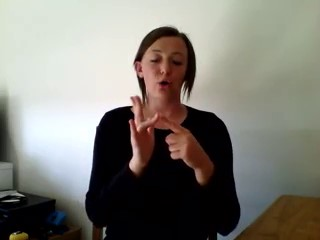O: (124, 93, 205, 170)
